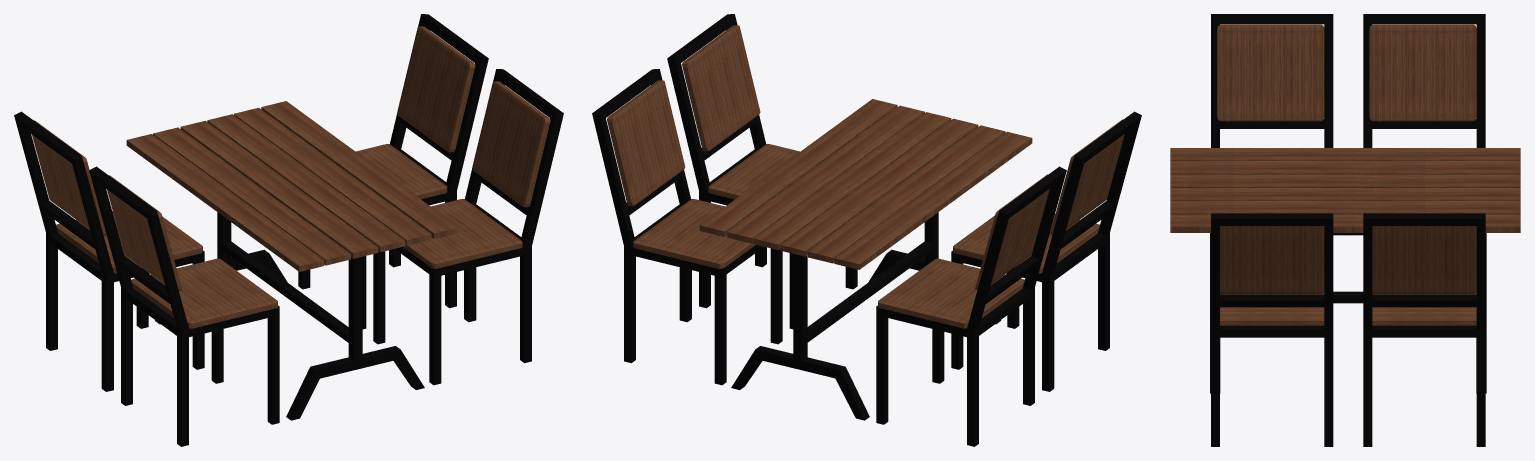
Rendered from table_4.glb.
The picture shows the model from 3 angles, left to right: view 1: azimuth 30°, elevation 25°; view 2: azimuth 150°, elevation 25°; view 3: azimuth 270°, elevation 25°; orthographic projection.
Parts seen in each view (by area): view 1: Group6, Group5, Group2, Ottoman_17, Ottoman_11, Group10, Ottoman_02, Group7, Group9, Group4, Ottoman_14, Group15 (+6 smaller); view 2: Group6, Group5, Group7, Ottoman_11, Ottoman_17, Group13, Ottoman_08, Group2, Group9, Group4, Ottoman_20, Group12 (+6 smaller); view 3: Group6, Ottoman_05, Ottoman_Mo, Ottoman_17, Ottoman_11, Group15, Group12, Group9, Group4, Group13, Group10, Ottoman_14 (+2 smaller).
Boxes of the visible parts, bbox=[...] form: Group6: bbox=[126, 101, 458, 271]; Group5: bbox=[155, 212, 424, 420]; Group2: bbox=[121, 287, 279, 446]; Ottoman_17: bbox=[397, 26, 475, 152]; Ottoman_11: bbox=[472, 81, 550, 207]; Group10: bbox=[373, 204, 531, 385]; Ottoman_02: bbox=[131, 258, 277, 328]; Group7: bbox=[46, 232, 204, 391]; Group9: bbox=[14, 111, 113, 275]; Group4: bbox=[89, 166, 188, 330]; Ottoman_14: bbox=[403, 199, 522, 268]; Group15: bbox=[390, 14, 488, 192]; Group6: bbox=[699, 99, 1032, 269]; Group5: bbox=[731, 212, 1000, 420]; Group7: bbox=[876, 287, 1034, 446]; Ottoman_11: bbox=[682, 25, 760, 151]; Ottoman_17: bbox=[607, 80, 685, 206]; Group13: bbox=[624, 204, 782, 385]; Ottoman_08: bbox=[878, 258, 1024, 328]; Group2: bbox=[951, 232, 1109, 391]; Group9: bbox=[967, 166, 1066, 330]; Group4: bbox=[1042, 111, 1141, 275]; Ottoman_20: bbox=[633, 199, 755, 268]; Group12: bbox=[667, 14, 765, 192]; Group6: bbox=[1170, 148, 1520, 232]; Ottoman_05: bbox=[1369, 24, 1476, 121]; Ottoman_Mo: bbox=[1217, 24, 1324, 121]; Ottoman_17: bbox=[1372, 226, 1476, 294]; Ottoman_11: bbox=[1220, 226, 1324, 294]; Group15: bbox=[1363, 213, 1485, 329]; Group12: bbox=[1211, 213, 1333, 329]; Group9: bbox=[1363, 14, 1485, 147]; Group4: bbox=[1211, 14, 1333, 147]; Group13: bbox=[1363, 325, 1485, 446]; Group10: bbox=[1211, 325, 1333, 446]; Ottoman_14: bbox=[1220, 292, 1324, 325].
Size of the model in its own units: 1.71 by 0.9561 by 1.24.
4 materials, 2 textured.
